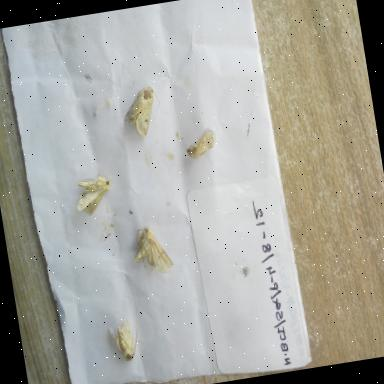abw: (122, 216, 180, 286), (115, 80, 169, 148), (66, 166, 120, 224), (100, 312, 144, 368), (178, 122, 225, 164)
